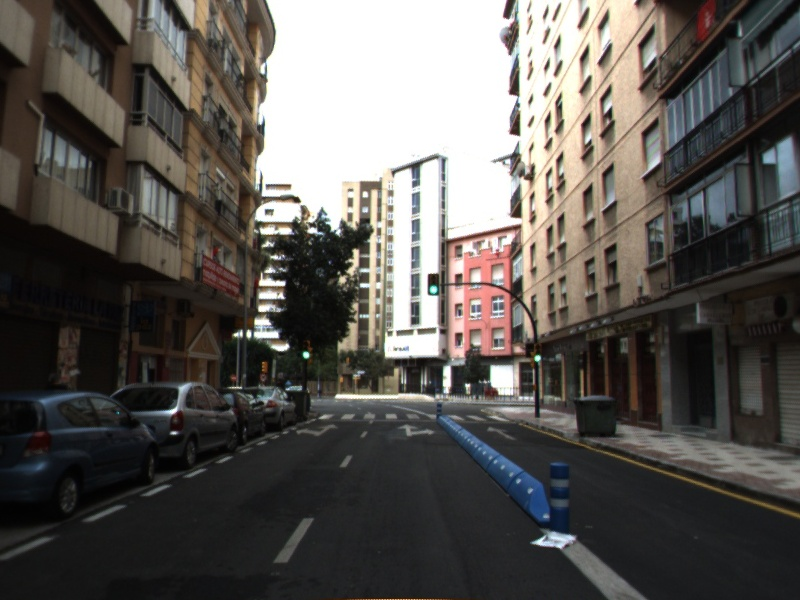STRAIGHT: (485, 425, 519, 442)
STRAIGHT_LEFT: (295, 422, 340, 438)
STRAIGHT_RIGHT: (396, 422, 436, 438)
